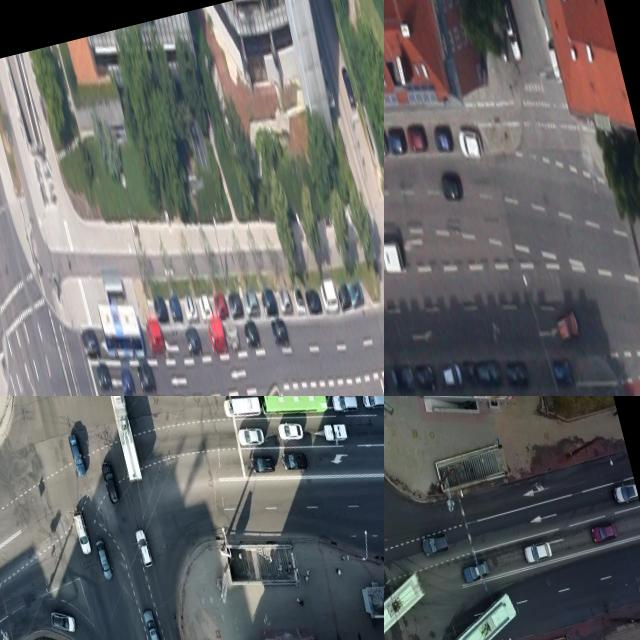UAI: (499, 0, 522, 60), (456, 125, 485, 163), (93, 535, 116, 582), (71, 509, 93, 556), (133, 527, 155, 570), (100, 460, 121, 505), (439, 168, 465, 204), (48, 606, 78, 637), (67, 433, 87, 478), (475, 357, 503, 389), (390, 363, 417, 396), (419, 531, 452, 558), (555, 310, 581, 343), (144, 318, 166, 356), (521, 538, 553, 564), (504, 358, 530, 389), (460, 559, 492, 584), (317, 277, 339, 313), (236, 423, 266, 449), (206, 318, 228, 353), (431, 122, 455, 154), (413, 362, 437, 394), (340, 65, 357, 110), (610, 479, 638, 506), (280, 448, 309, 474), (268, 315, 290, 349), (405, 123, 429, 154), (277, 418, 305, 444), (135, 361, 157, 394), (589, 520, 619, 544), (141, 608, 163, 640), (249, 451, 277, 476), (79, 325, 100, 357), (441, 362, 464, 391), (460, 356, 480, 389), (552, 358, 574, 388), (323, 419, 349, 444), (183, 324, 203, 356), (259, 285, 279, 317), (241, 319, 261, 349), (385, 127, 406, 155), (211, 289, 229, 321), (241, 288, 260, 317), (329, 396, 358, 415), (196, 290, 213, 322), (166, 292, 183, 324), (95, 363, 113, 392), (226, 290, 244, 319), (119, 366, 136, 396), (347, 280, 365, 308), (304, 287, 322, 315), (152, 294, 169, 323), (182, 294, 199, 322), (336, 281, 352, 310), (291, 286, 306, 316), (225, 323, 241, 350), (277, 288, 293, 314), (360, 396, 384, 412)
car: (90, 396, 144, 481), (443, 589, 526, 640), (95, 293, 146, 363), (384, 569, 433, 640), (259, 396, 329, 425)
harvester: (221, 396, 262, 423), (384, 236, 405, 278)
